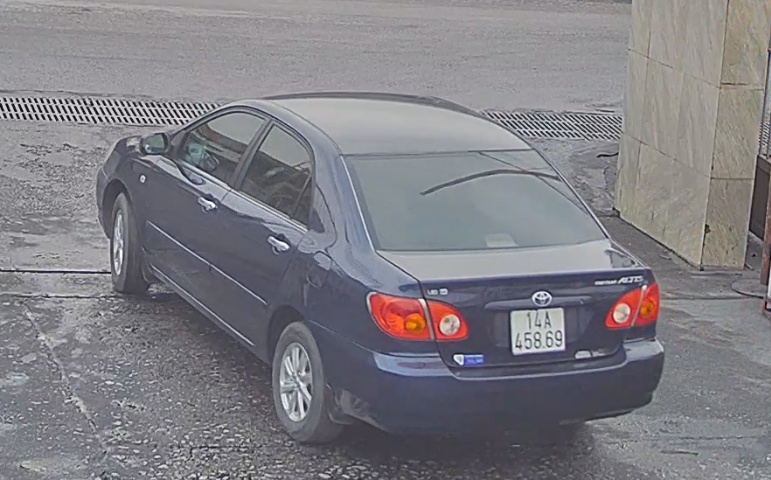vehicle plate: (505, 303, 571, 357)
